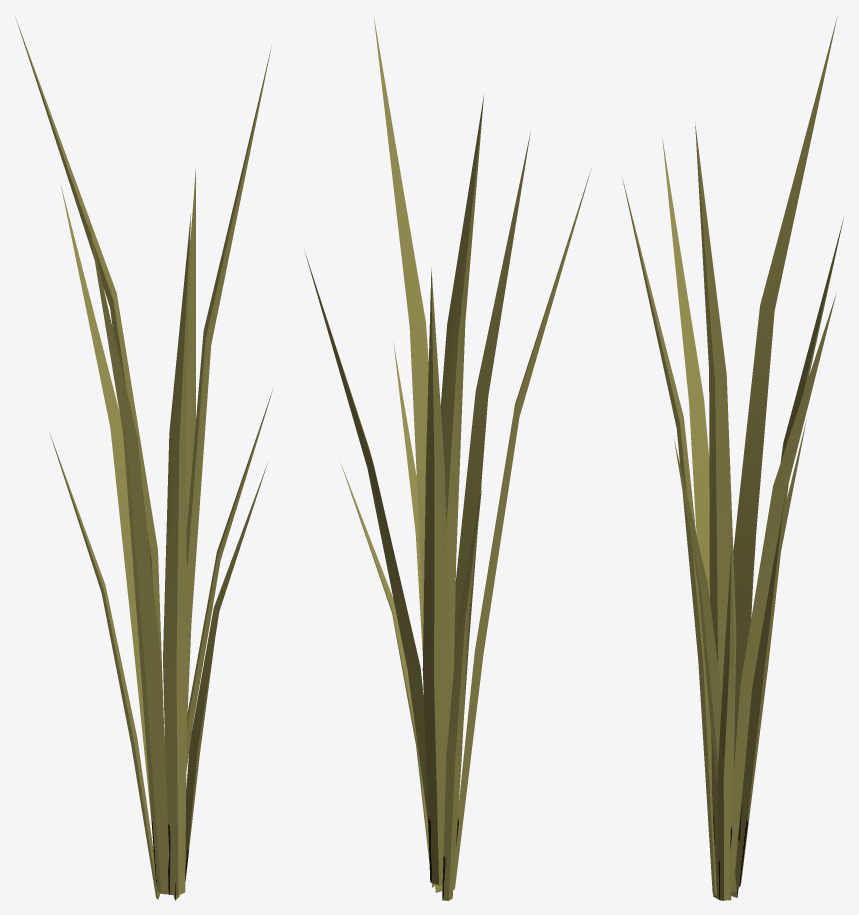
Rendered from ReedmaceA.fbx.
The picture shows the model from 3 angles, left to right: view 1: azimuth 30°, elevation 25°; view 2: azimuth 150°, elevation 25°; view 3: azimuth 270°, elevation 25°; orthographic projection. The views are drawn at different scales.
Visible parts, largest first — view 1: ReedmaceA; view 2: ReedmaceA; view 3: ReedmaceA.
Part boxes in pixels (x1=…): ReedmaceA: x1=15, y1=17, x2=273, y2=900; ReedmaceA: x1=304, y1=16, x2=591, y2=900; ReedmaceA: x1=622, y1=17, x2=843, y2=900.
Bounding box in the file's own units: 47.39 × 181 × 43.54.
